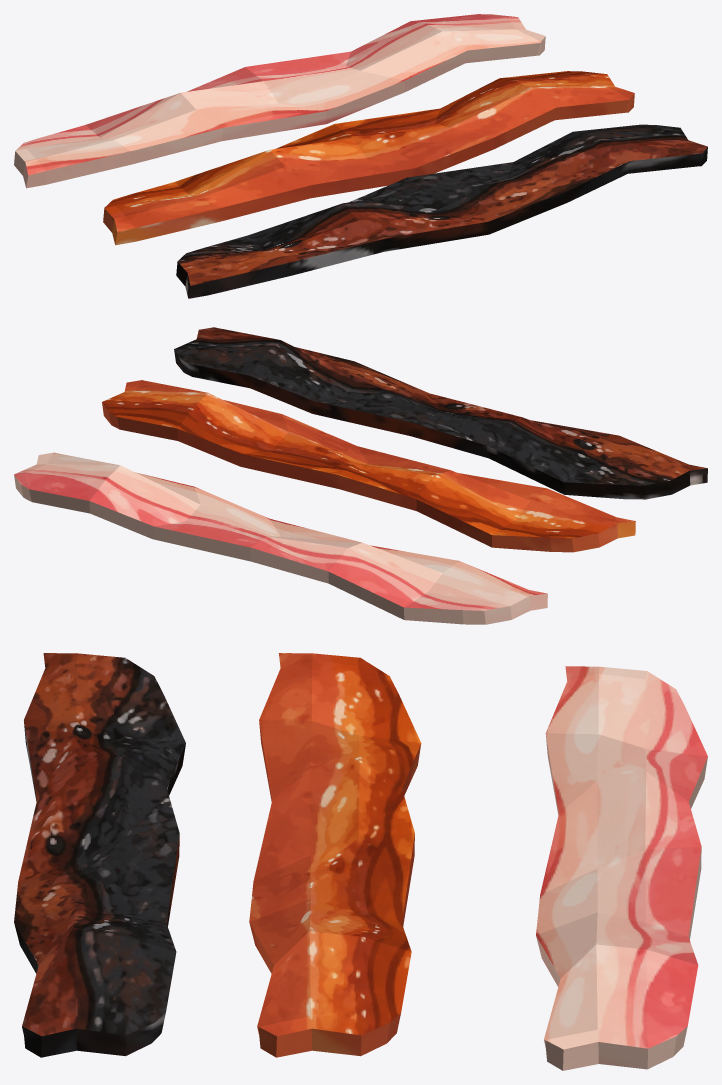
Rendered from Obj_Tocino.fbx.
The picture shows the model from 3 angles, top to bottom: view 1: azimuth 30°, elevation 25°; view 2: azimuth 150°, elevation 25°; view 3: azimuth 270°, elevation 25°; orthographic projection. The views are drawn at different scales.
Visible parts, largest first — view 1: Mesh1, TOCINO1:Mesh, Mesh; view 2: Mesh1, TOCINO1:Mesh, Mesh; view 3: TOCINO1:Mesh, Mesh1, Mesh.
Boxes of the visible parts, x1,y1,x2,y2 form: Mesh1: (176,124,707,298); TOCINO1:Mesh: (14,14,545,188); Mesh: (103,71,634,245); Mesh1: (174,327,707,499); TOCINO1:Mesh: (14,452,547,624); Mesh: (102,380,635,552); TOCINO1:Mesh: (536,666,707,1070); Mesh1: (14,653,185,1057); Mesh: (249,653,421,1057).
Size of the model in its own units: 1.34 by 0.1541 by 0.969.
Materials: 3 (3 with a texture image).
